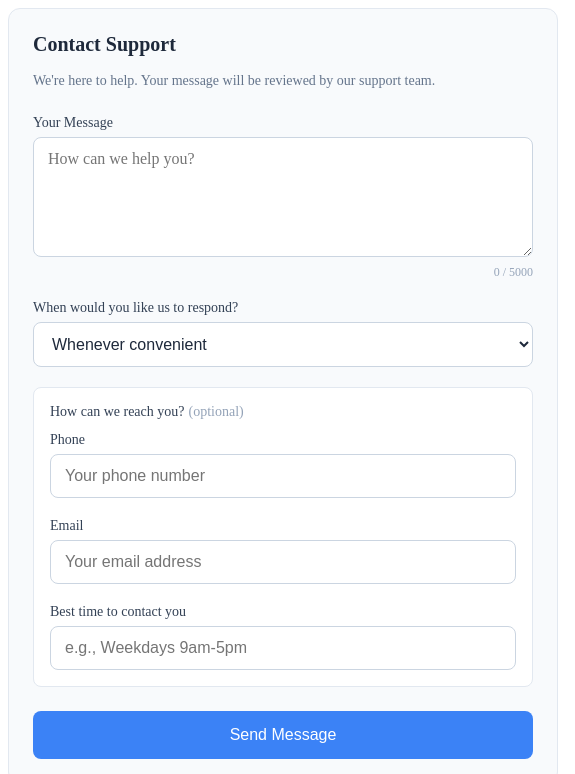
Test case: SafetyContactForm › Form validation › should show error when message is empty
Click the button "Send Message" at (283,735), box [33,711,533,759]
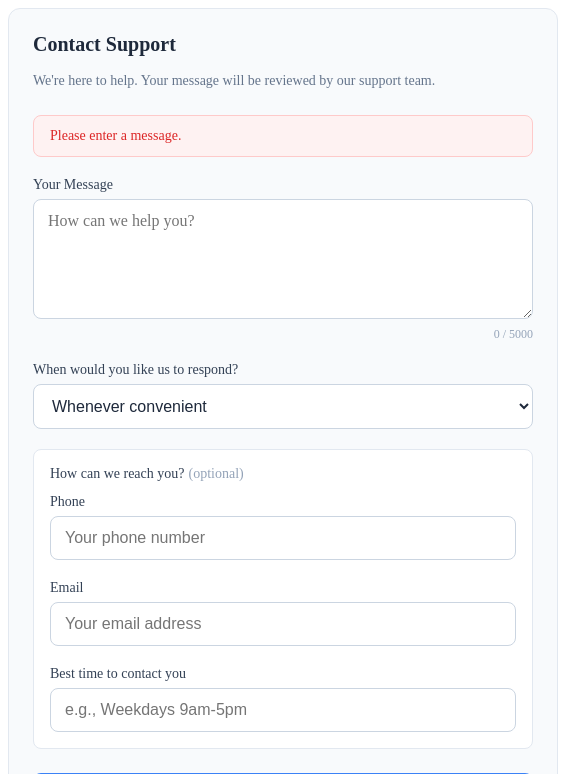
expect the message shows "Please enter a message": met, box [50,128,181,143]
